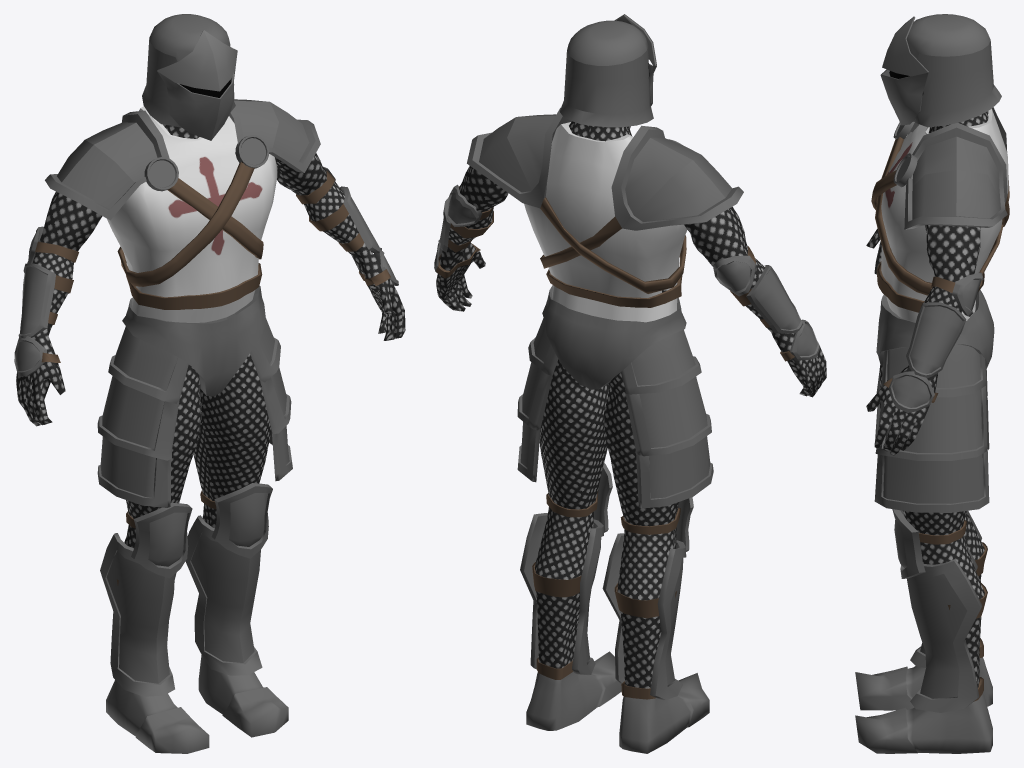
Rendered from knight_model_BASIC.fbx.
The picture shows the model from 3 angles, left to right: view 1: azimuth 30°, elevation 25°; view 2: azimuth 150°, elevation 25°; view 3: azimuth 270°, elevation 25°; orthographic projection.
Parts seen in each view (by area): view 1: polySurface107; view 2: polySurface107; view 3: polySurface107.
Part boxes in pixels (x1,y1,x2,y2): polySurface107: (14, 14, 405, 753); polySurface107: (434, 14, 826, 753); polySurface107: (855, 14, 1009, 753).
Bounding box in the file's own units: 113 × 198 × 39.39.
1 material, 1 textured.
